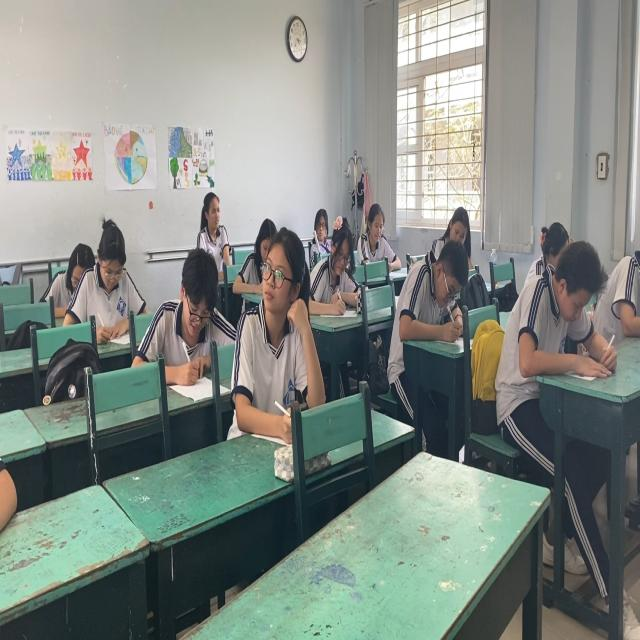cheating: (232, 221, 319, 414)
not_cheating: (527, 235, 611, 386), (150, 252, 228, 372), (70, 206, 146, 314), (400, 231, 470, 338), (313, 208, 362, 308), (189, 192, 237, 266), (356, 190, 391, 268), (450, 194, 470, 262)
